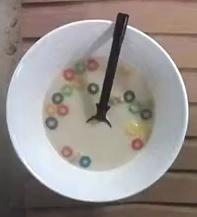cereal: (43, 56, 154, 171)
